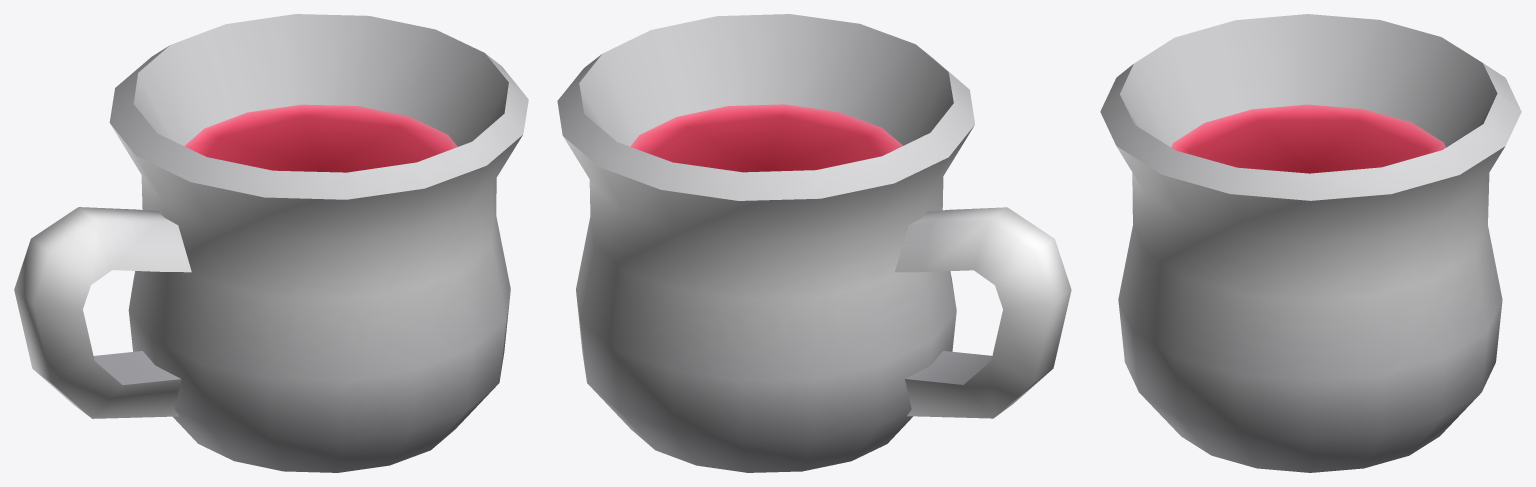
The model's file is m_FancyTea05.fbx.
3 views of the same model, side by side, from view 1: azimuth 30°, elevation 25°; view 2: azimuth 150°, elevation 25°; view 3: azimuth 270°, elevation 25° (orthographic).
Parts seen in each view (by area): view 1: m_FancyTea05; view 2: m_FancyTea05; view 3: m_FancyTea05.
Part boxes in pixels (x1,y1,x2,y2): m_FancyTea05: (14, 14, 528, 472); m_FancyTea05: (557, 14, 1071, 472); m_FancyTea05: (1100, 14, 1521, 472).
Size of the model in its own units: 12.19 by 7.81 by 9.32.
